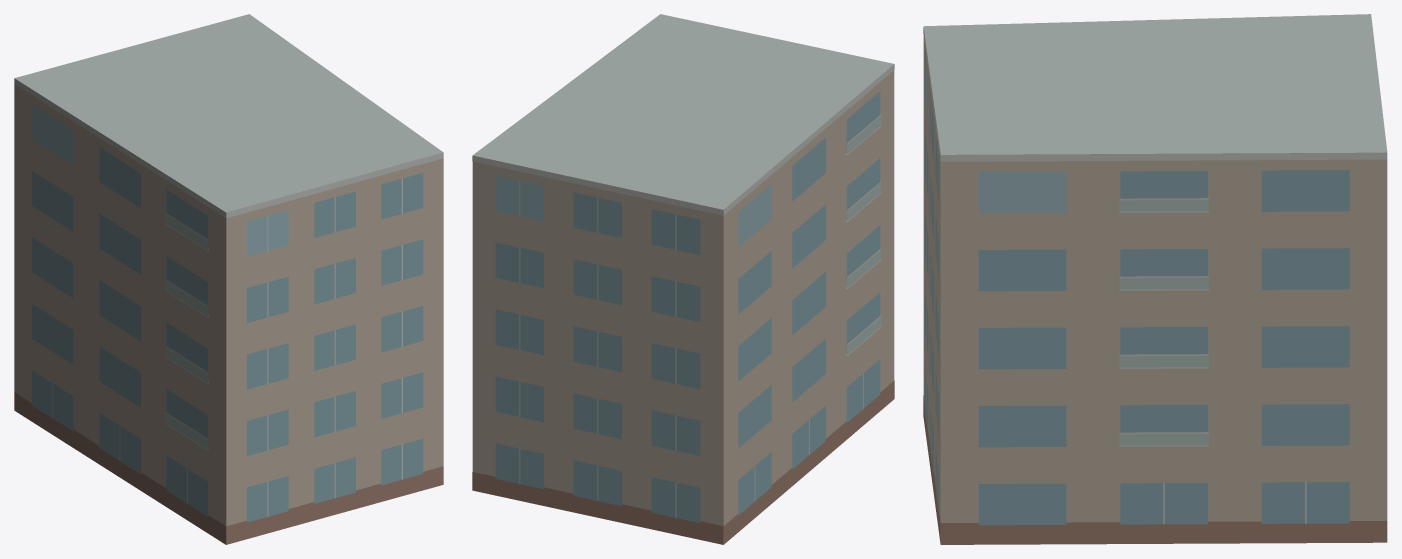
File: survey-upis-32728489.glb
3 views of the same model, side by side, from view 1: azimuth 30°, elevation 25°; view 2: azimuth 150°, elevation 25°; view 3: azimuth 270°, elevation 25° (orthographic). The views are drawn at different scales.
Parts seen in each view (by area): view 1: survey-upis-32728489.tmp; view 2: survey-upis-32728489.tmp; view 3: survey-upis-32728489.tmp.
Part boxes in pixels (x1,y1,x2,y2): survey-upis-32728489.tmp: [14, 14, 443, 544]; survey-upis-32728489.tmp: [472, 14, 894, 544]; survey-upis-32728489.tmp: [923, 14, 1387, 544].
Bounding box in the file's own units: 10.7 × 13.8 × 14.89.
